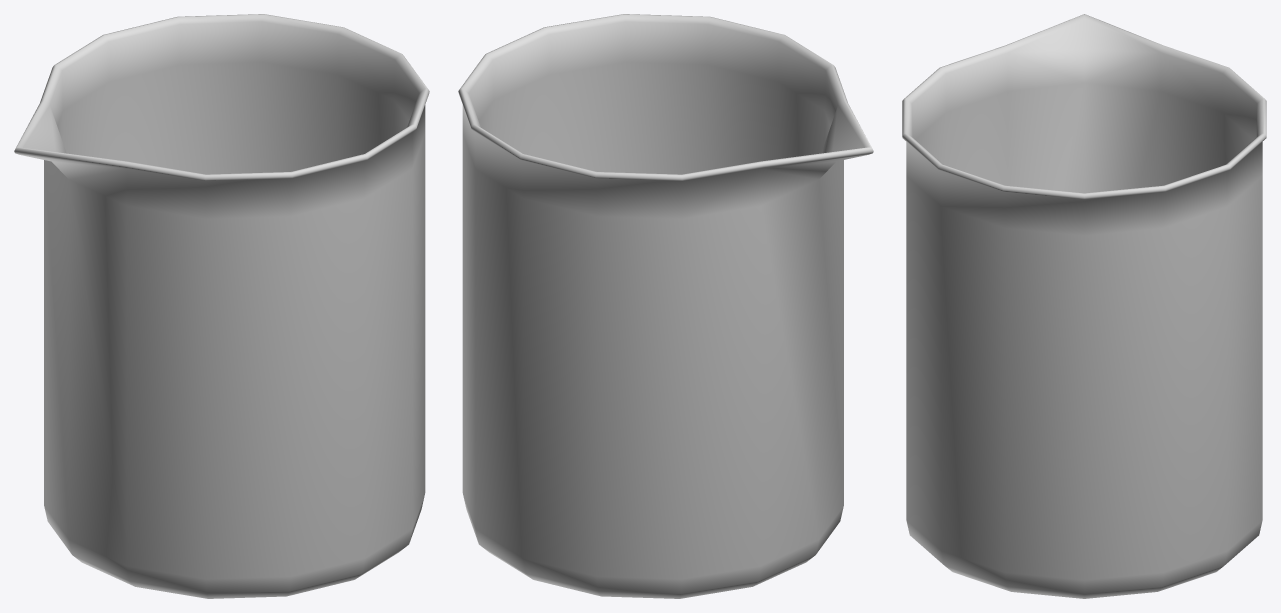
Rendered from daoju04.FBX.
3 renders of one model, left to right at view 1: azimuth 30°, elevation 25°; view 2: azimuth 150°, elevation 25°; view 3: azimuth 270°, elevation 25°, orthographic. The views are drawn at different scales.
Visible parts, largest first — view 1: daoju04; view 2: daoju04; view 3: daoju04.
Part boxes in pixels (x1=…): daoju04: x1=14, y1=14, x2=429, y2=598; daoju04: x1=458, y1=14, x2=873, y2=598; daoju04: x1=902, y1=14, x2=1266, y2=598.
Size of the model in its own units: 9.94 by 10.58 by 8.42.
